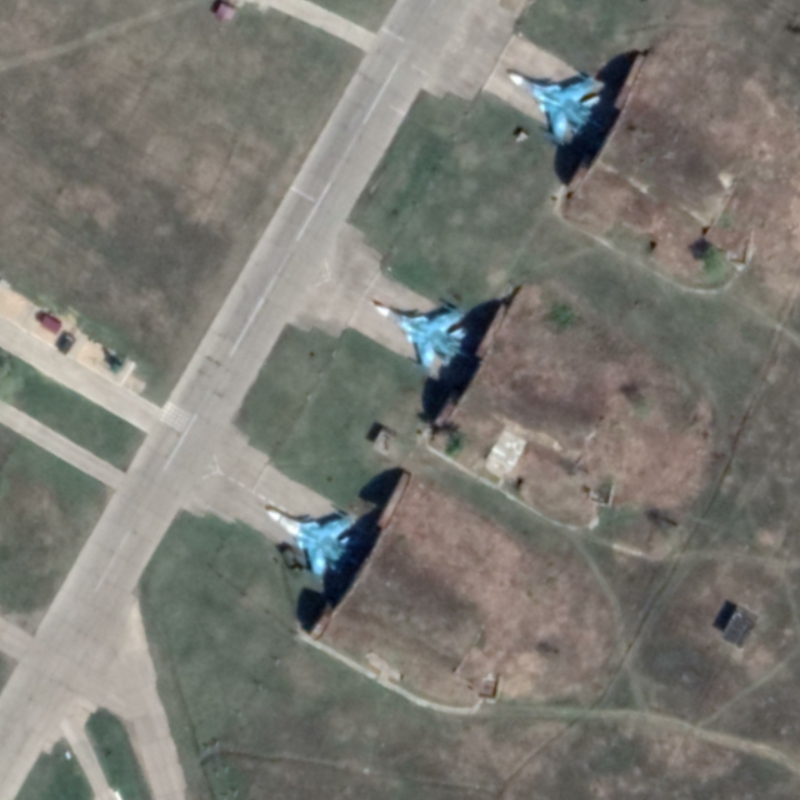A19: (506, 70, 607, 148), (263, 506, 363, 583), (373, 303, 472, 376)
